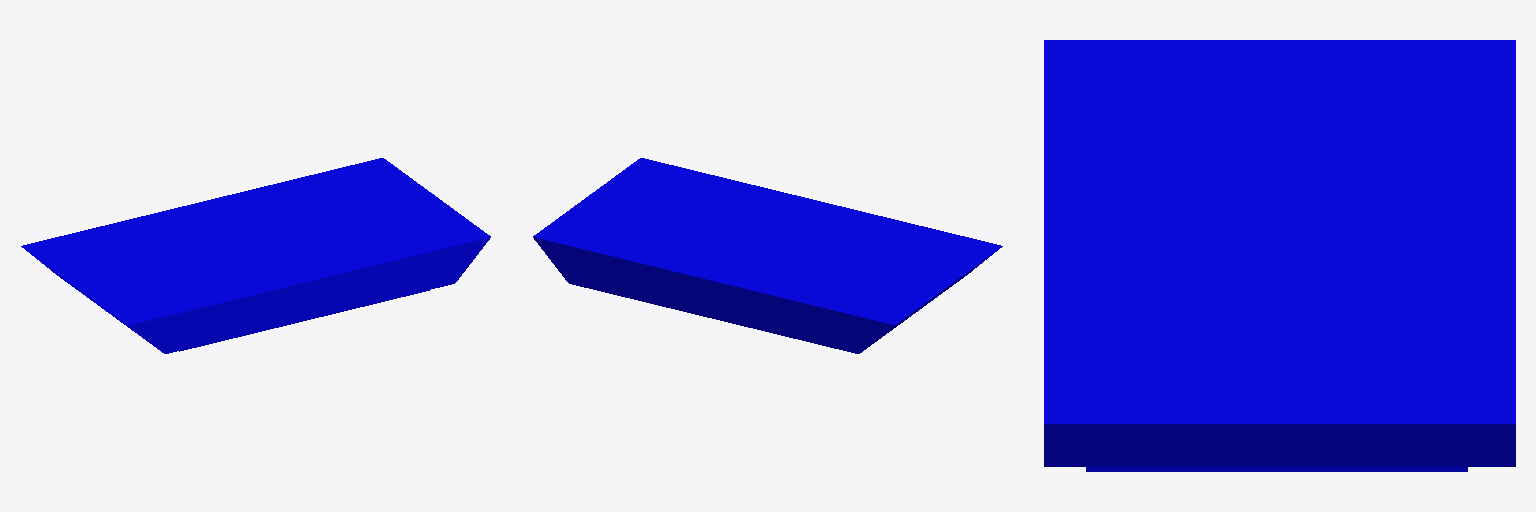
The robot description file, URDF, robot "oreo.urdf":
<?xml version="0.0" ?>
<robot name="oreo.urdf">
  <link name="baseLink">
    <contact>
      <lateral_friction value="1.0"/>
      <inertia_scaling value="3.0"/>
    </contact>
    <inertial>
      <origin rpy="0 0 0" xyz="0 0 0"/>
       <mass value=".2"/>
       <inertia ixx="0.1" ixy="0" ixz="0" iyy="0.1" iyz="0" izz="0.1"/>
    </inertial>
    <visual>
      <origin rpy="0 0 0" xyz="0 0 0"/>
      <geometry>
        <mesh filename="oreo.stl" scale="1 1 1"/>
      </geometry>
      <material name="blue">
        <color rgba="0.04 0.04 0.96 1"/>
      </material>
    </visual>
    <collision>
      <origin rpy="0 0 0" xyz="0 0 0"/>
      <geometry>
    <box size="0.005 0.005 0.005"/>
      </geometry>
    </collision>
  </link>
</robot>

--- What the picture shows (computed from the rendered views, not written in the file) ---
The picture shows the robot from 3 angles, left to right: view 1: azimuth 30°, elevation 25°; view 2: azimuth 150°, elevation 25°; view 3: azimuth 270°, elevation 25°; orthographic projection.
Robot: oreo.urdf — 1 links, 0 joints (none); root link baseLink; default pose: all joints at 0.
Visible links, largest first — view 1: baseLink; view 2: baseLink; view 3: baseLink.
Boxes of the visible links, <box> form: baseLink: <box>21,158,490,353</box>; baseLink: <box>533,158,1002,353</box>; baseLink: <box>1044,40,1515,471</box>.
Size in the robot's own frame: 0.0682 by 0.0353 by 0.0086 metres.
1 mesh visuals loaded from 1 distinct referenced files (1 binary STL).